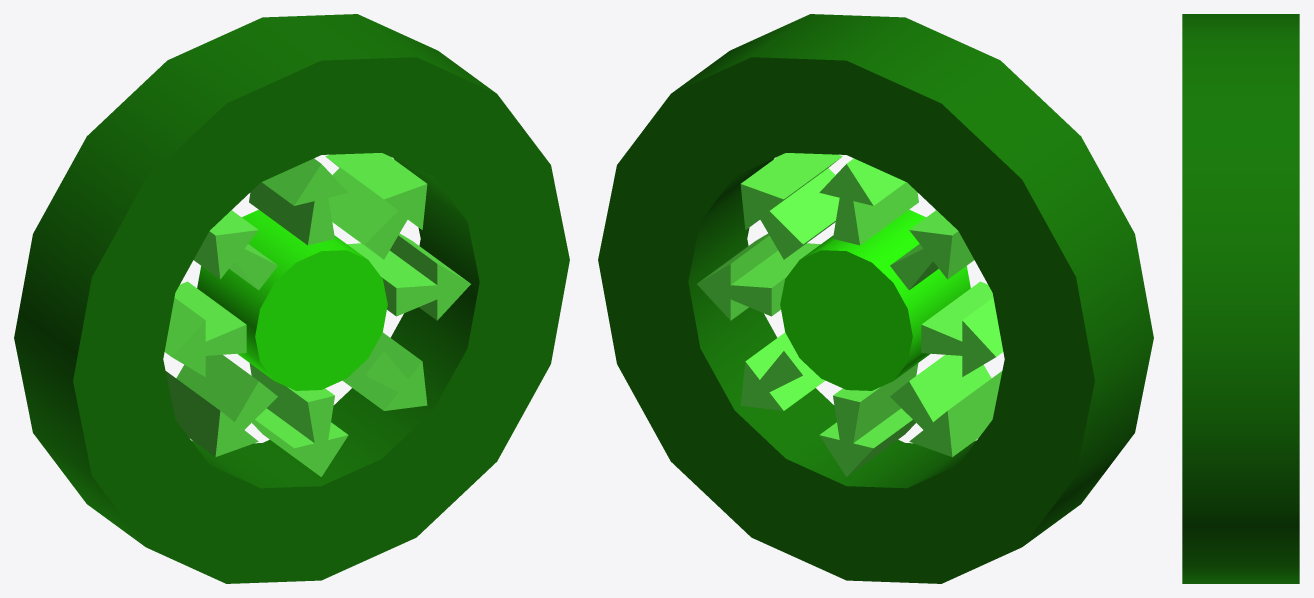
The model's file is SizeUp.fbx.
3 renders of one model, left to right at view 1: azimuth 30°, elevation 25°; view 2: azimuth 150°, elevation 25°; view 3: azimuth 270°, elevation 25°, orthographic.
Parts seen in each view (by area): view 1: SizeUp; view 2: SizeUp; view 3: SizeUp.
Part boxes in pixels (x1,y1,x2,y2): SizeUp: (14, 14, 569, 583); SizeUp: (598, 14, 1153, 583); SizeUp: (1182, 14, 1299, 583).
Size of the model in its own units: 72.97 by 72.97 by 15.
